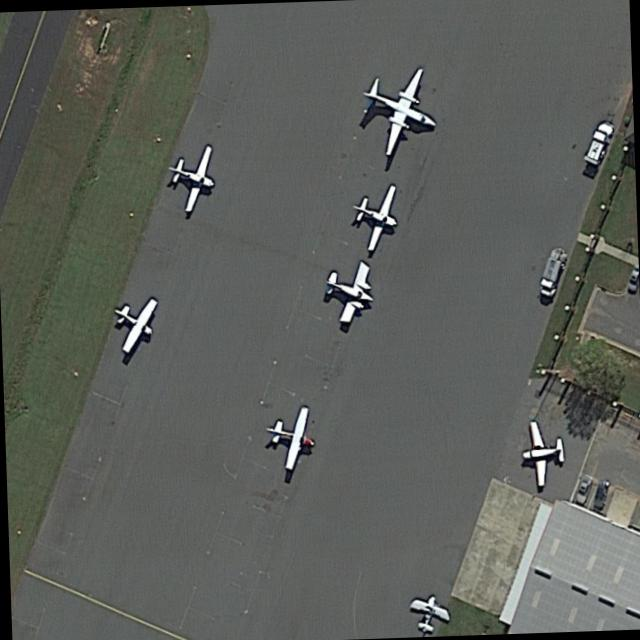large-vehicle: (532, 242, 568, 297), (583, 114, 616, 164)
plane: (340, 45, 451, 170), (337, 171, 406, 258), (155, 131, 224, 217), (314, 250, 382, 331), (97, 278, 164, 358), (255, 394, 319, 475), (516, 413, 566, 488), (400, 584, 454, 635)
small-vehicle: (589, 476, 610, 508), (571, 472, 591, 505)
